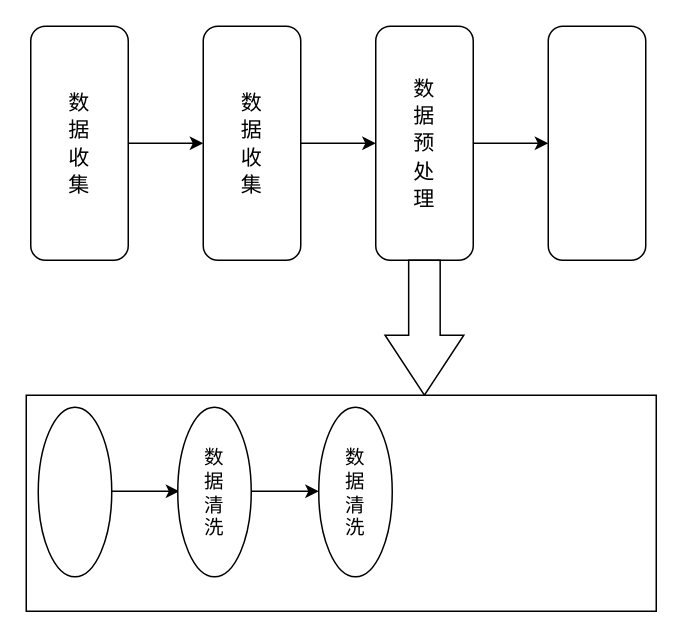
The diagram is 683 pixels wide and 638 high, and some of its shapes have lost their labels. The box of each missing label's shape, as (x1, y1, x2, y2) in pixels:
中 文 分 词: (37, 406, 112, 577)
分 类 算 法: (547, 25, 646, 260)
